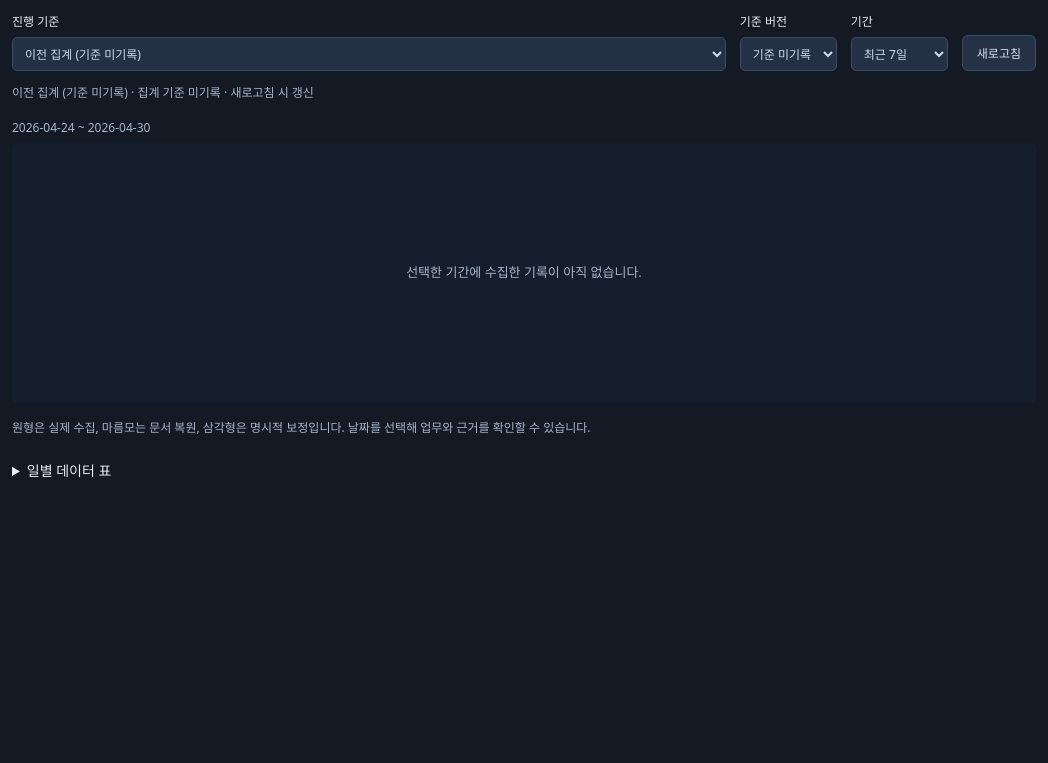
근거가 있는 과거 진행 차트 › custom_range_preserves_missing_days_and_does_not_mix_legacy_basis
Step 1. Select "사용자 기간" in the dropdown named "기준별 차트 기간" → (899,54), box [851,37,948,71]
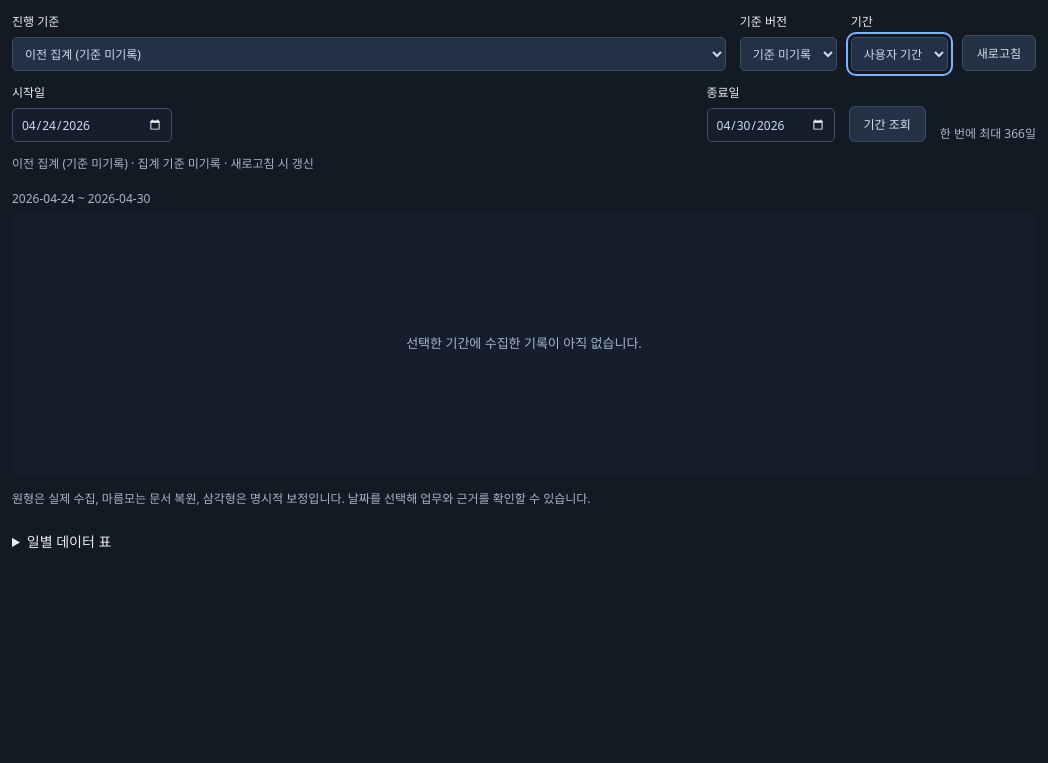
Step 2. Type "2026-01-01" into the date field named "과거 조회 시작일" → (92,125), box [12,108,172,142]
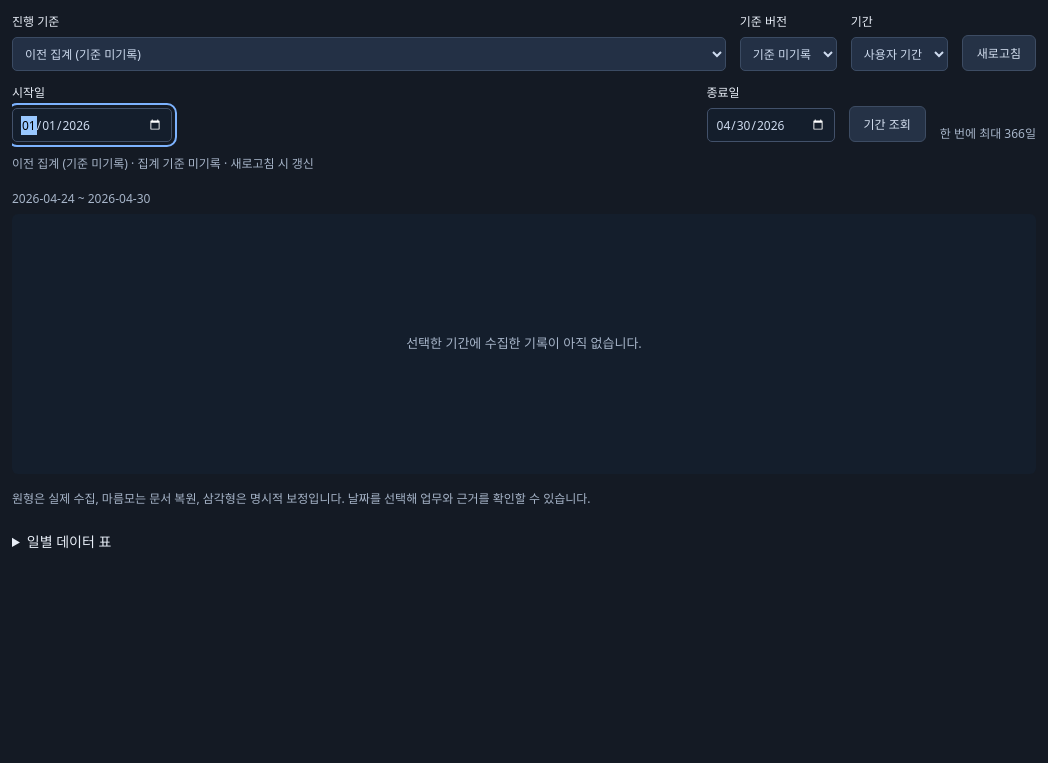
Step 3. Click the button "기간 조회" → (887,124), box [848,106,926,142]
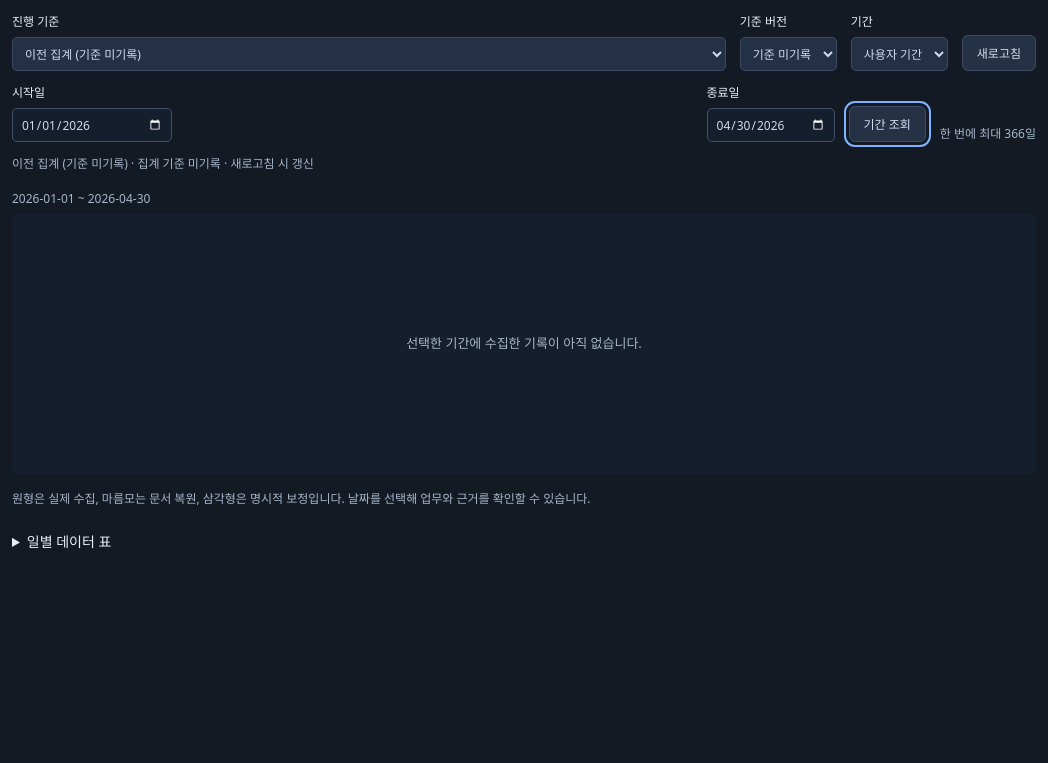
Step 4. Click the heading "일별 데이터 표" → (69,542), box [27,532,111,551]
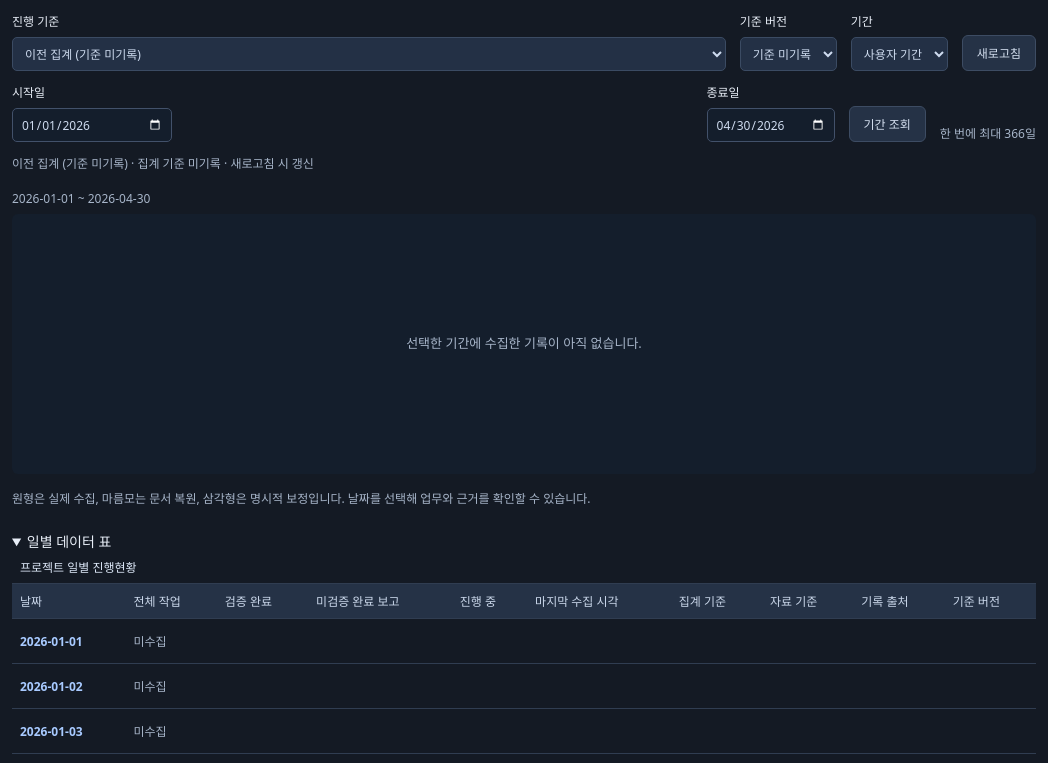
Check: the number of rows is 121
Check: the text "미수집" is shown 120 times
